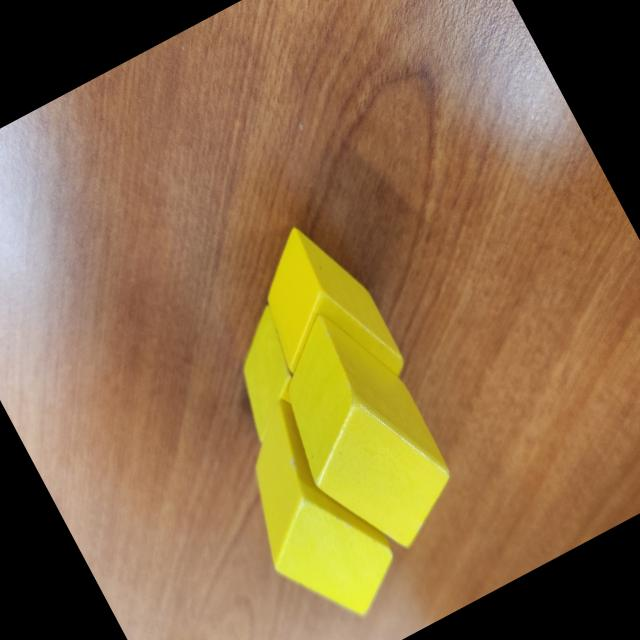yellow: (244, 290, 475, 572), (204, 383, 416, 640), (230, 208, 412, 422), (205, 304, 325, 445)
